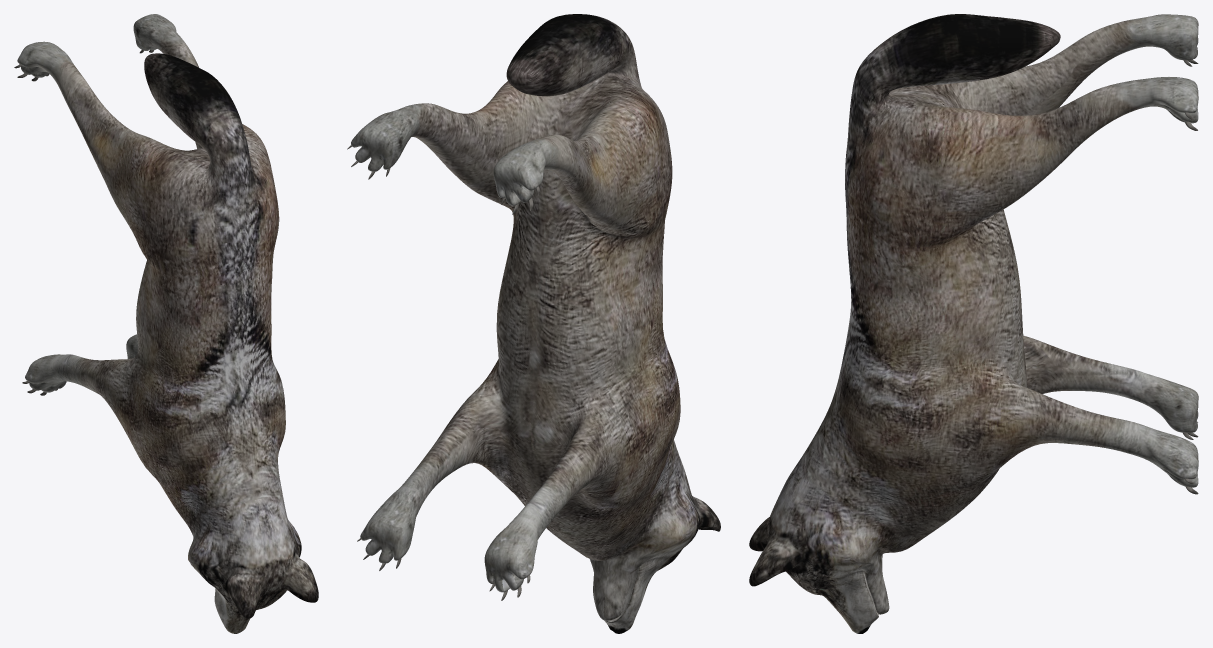
3 views of the same model, side by side, from view 1: azimuth 30°, elevation 25°; view 2: azimuth 150°, elevation 25°; view 3: azimuth 270°, elevation 25° (orthographic). The views are drawn at different scales.
Parts seen in each view (by area): view 1: Node1; view 2: Node1; view 3: Node1.
Part boxes in pixels (bbox=[...]): Node1: bbox=[14, 14, 318, 633]; Node1: bbox=[347, 14, 720, 633]; Node1: bbox=[749, 14, 1198, 633].
Bounding box in the file's own units: 40.11 × 130 × 86.1.
Materials: 1 (1 with a texture image).
